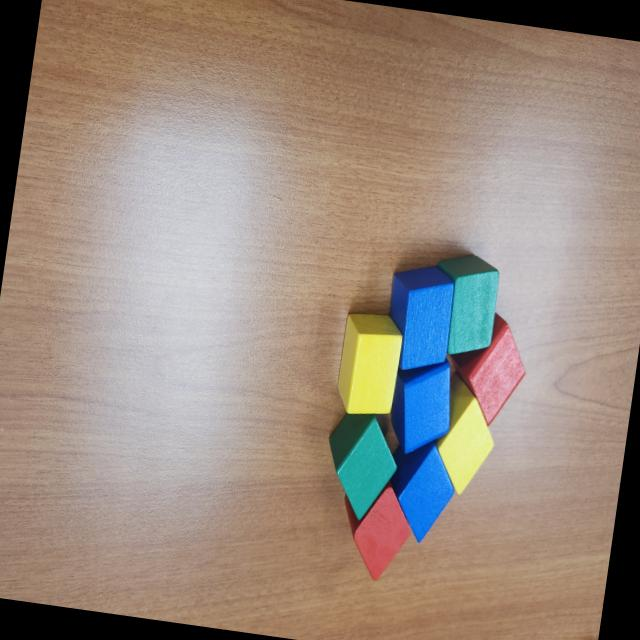blue: (379, 434, 462, 548), (380, 262, 458, 377), (386, 350, 460, 460)
green: (318, 408, 404, 526), (424, 250, 504, 364)
red: (441, 306, 534, 432), (334, 474, 417, 584)
yellow: (427, 371, 504, 500), (334, 309, 406, 419)
